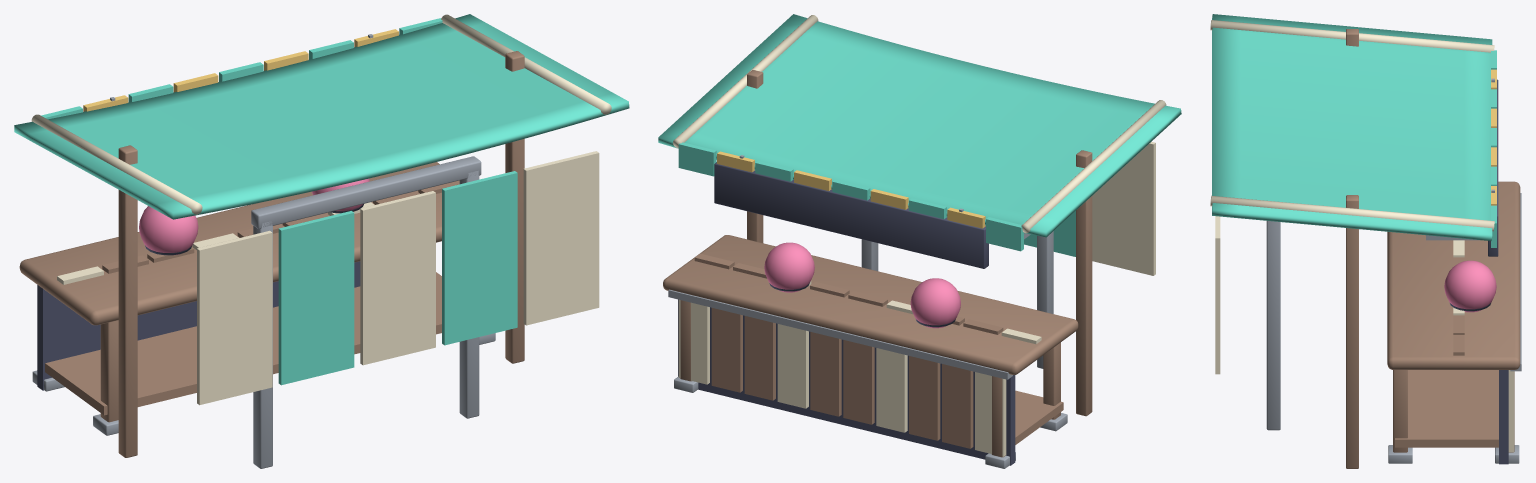
Rendered from FestivalStallPerformance.fbx.
3 renders of one model, left to right at view 1: azimuth 30°, elevation 25°; view 2: azimuth 150°, elevation 25°; view 3: azimuth 270°, elevation 25°, orthographic. The views are drawn at different scales.
Visible parts, largest first — view 1: FestivalStallPerformance CanvasMint__CanvasMint, FestivalStallPerformance CanvasCream__CanvasCream, FestivalStallPerformance Wood__Wood, FestivalStallPerformance Metal__Metal, FestivalStallPerformance Dark__Dark, FestivalStallPerformance Rose__Rose, FestivalStallPerformance CanvasGold__CanvasGold, FestivalStallPerformance Cream__Cream; view 2: FestivalStallPerformance CanvasMint__CanvasMint, FestivalStallPerformance Wood__Wood, FestivalStallPerformance Dark__Dark, FestivalStallPerformance CanvasCream__CanvasCream, FestivalStallPerformance Cream__Cream, FestivalStallPerformance Metal__Metal, FestivalStallPerformance Rose__Rose, FestivalStallPerformance CanvasGold__CanvasGold; view 3: FestivalStallPerformance CanvasMint__CanvasMint, FestivalStallPerformance Wood__Wood, FestivalStallPerformance CanvasCream__CanvasCream, FestivalStallPerformance Metal__Metal, FestivalStallPerformance Rose__Rose, FestivalStallPerformance Dark__Dark, FestivalStallPerformance Cream__Cream, FestivalStallPerformance CanvasGold__CanvasGold.
Part boxes in pixels (x1,y1,x2,y2): FestivalStallPerformance CanvasMint__CanvasMint: (14,14,629,385); FestivalStallPerformance CanvasCream__CanvasCream: (31,14,611,405); FestivalStallPerformance Wood__Wood: (19,51,524,457); FestivalStallPerformance Metal__Metal: (32,34,495,468); FestivalStallPerformance Dark__Dark: (37,204,363,390); FestivalStallPerformance Rose__Rose: (139,178,369,254); FestivalStallPerformance CanvasGold__CanvasGold: (83,29,398,111); FestivalStallPerformance Cream__Cream: (57,202,374,284); FestivalStallPerformance CanvasMint__CanvasMint: (658,14,1181,256); FestivalStallPerformance Wood__Wood: (663,70,1092,457); FestivalStallPerformance Dark__Dark: (678,162,1015,465); FestivalStallPerformance CanvasCream__CanvasCream: (673,15,1166,275); FestivalStallPerformance Cream__Cream: (678,281,1041,456); FestivalStallPerformance Metal__Metal: (668,155,1067,468); FestivalStallPerformance Rose__Rose: (764,242,960,328); FestivalStallPerformance CanvasGold__CanvasGold: (717,151,985,228); FestivalStallPerformance CanvasMint__CanvasMint: (1212,14,1496,247); FestivalStallPerformance Wood__Wood: (1346,29,1520,468); FestivalStallPerformance CanvasCream__CanvasCream: (1210,20,1494,374); FestivalStallPerformance Metal__Metal: (1266,78,1521,463); FestivalStallPerformance Rose__Rose: (1444,260,1496,312); FestivalStallPerformance Dark__Dark: (1450,79,1508,464); FestivalStallPerformance Cream__Cream: (1453,240,1514,452); FestivalStallPerformance CanvasGold__CanvasGold: (1491,69,1496,205).
Bounding box in the file's own units: 531 × 348 × 356.
